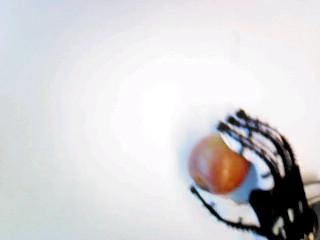apple: (187, 132, 252, 197)
hand: (189, 109, 310, 240)
